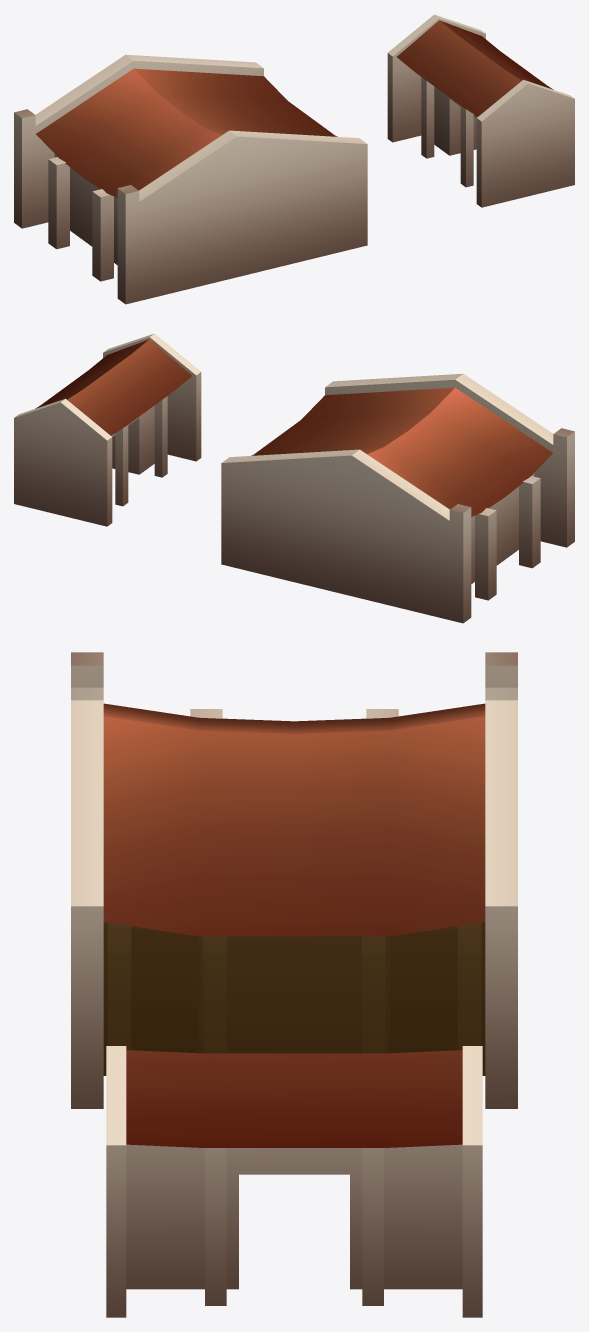
The model's file is SM_Buidling_Generic_Temple_01.fbx.
3 renders of one model, top to bottom at view 1: azimuth 30°, elevation 25°; view 2: azimuth 150°, elevation 25°; view 3: azimuth 270°, elevation 25°, orthographic. The views are drawn at different scales.
Parts seen in each view (by area): view 1: SM_Buidling_Generic_Temple_01; view 2: SM_Buidling_Generic_Temple_01; view 3: SM_Buidling_Generic_Temple_01.
Boxes of the visible parts, <box> form: SM_Buidling_Generic_Temple_01: <box>14,14,574,304</box>; SM_Buidling_Generic_Temple_01: <box>14,333,574,623</box>; SM_Buidling_Generic_Temple_01: <box>71,652,517,1317</box>.
Bounding box in the file's own units: 33.28 × 9.77 × 14.05.
